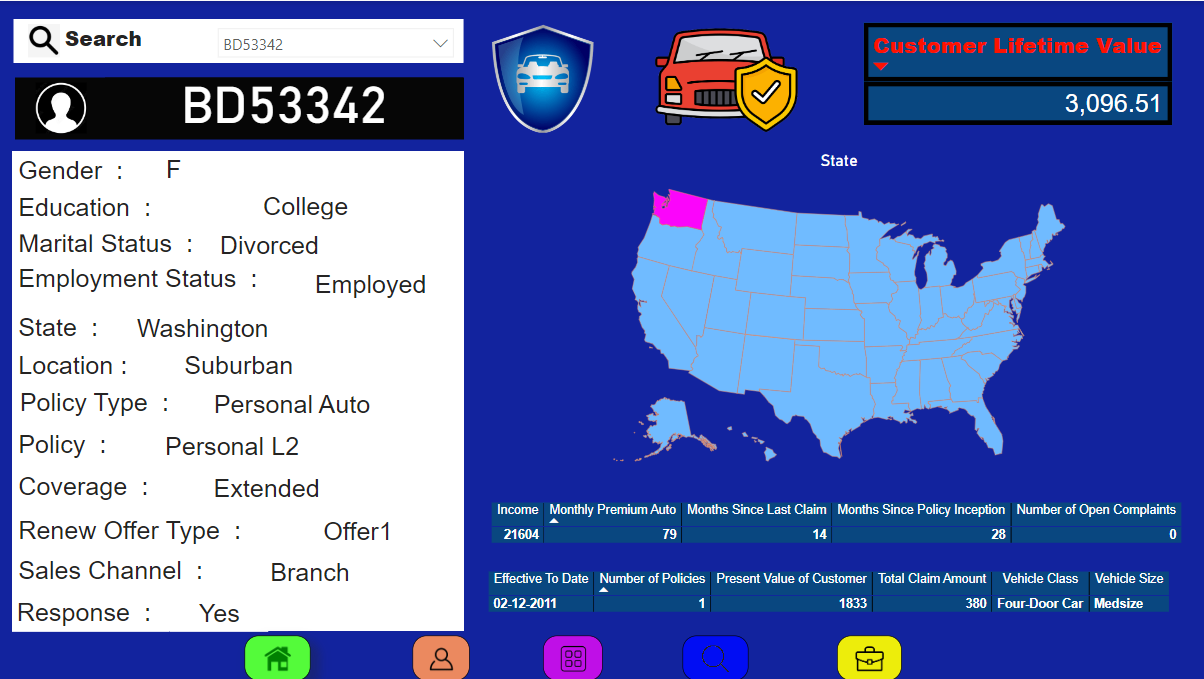

The page's visual inventory and layout, read from the dashboard file:
{"tool":"powerbi","page":{"name":"Customer Details","canvas":[1280,720],"ordinal":3},"visuals":[{"type":"group","id":"g1","title":"Group 10","box":[12.7,17.5,1251.8,650.6],"z":0},{"type":"tableEx","fields":{"Values":["Final Customet Lifetime Value.Customer Lifetime Value"]},"box":[910,17.5,352.9,127],"z":0,"group":"g4"},{"type":"textbox","box":[63.9,19.1,157.5,45.5],"z":0,"group":"g8"},{"type":"image","box":[15.9,81.8,97.9,64.2],"z":0,"group":"g7"},{"type":"group","id":"g2","title":"Group 5","box":[14.3,158.6,476.9,468.7],"z":0,"group":"g10"},{"type":"shapeMap","fields":{"Category":["Final Customet Lifetime Value.State"]},"box":[515.8,158.6,748.8,349.6],"z":0,"group":"g5"},{"type":"card","fields":{"Values":["Min(Final Customet Lifetime Value.Marital Status)"]},"box":[222.7,235.8,125.3,43.8],"z":0,"group":"g2"},{"type":"image","box":[14.3,19.1,64.7,45.5],"z":1000,"group":"g8"},{"type":"image","box":[512.6,19.1,127.2,125.4],"z":1000,"group":"g4"},{"type":"card","fields":{"Values":["Min(Final Customet Lifetime Value.Customer)"]},"box":[111.8,81.8,379.5,64.2],"z":1000,"group":"g7"},{"type":"textbox","box":[14.3,235.8,211.6,45.4],"z":1000,"group":"g2"},{"type":"tableEx","fields":{"Values":["Final Customet Lifetime Value.Income","Final Customet Lifetime Value.Monthly Premium Auto","Final Customet Lifetime Value.Months Since Last Claim","Final Customet Lifetime Value.Months Since Policy Inception","Final Customet Lifetime Value.Number of Open Complaints"]},"box":[515.8,526.9,748.8,67.4],"z":1000,"group":"g5"},{"type":"textbox","box":[12.7,627.3,166.9,40.8],"z":1000,"group":"g10"},{"type":"image","box":[887.6,672.8,68.4,47.7],"z":1000,"group":"g6"},{"type":"slicer","fields":{"Values":["Final Customet Lifetime Value.Customer"]},"box":[221.5,19.1,269.8,45.5],"z":2000,"group":"g8"},{"type":"image","box":[684.3,20.6,174.9,125.4],"z":2000,"group":"g4"},{"type":"textbox","box":[14.3,273.4,280,51.7],"z":2000,"group":"g2"},{"type":"tableEx","fields":{"Values":["Final Customet Lifetime Value.Effective To Date","Final Customet Lifetime Value.Number of Policies","Final Customet Lifetime Value.Present Value of Customer","Final Customet Lifetime Value.Total Claim Amount","Final Customet Lifetime Value.Vehicle Class","Final Customet Lifetime Value.Vehicle Size"]},"box":[512.2,599.1,749.2,69],"z":2000,"group":"g5"},{"type":"card","fields":{"Values":["Min(Final Customet Lifetime Value.Response)"]},"box":[179.6,627.3,104.9,40.8],"z":2000,"group":"g10"},{"type":"image","box":[723.8,672.8,70,47.7],"z":2000,"group":"g6"},{"type":"group","id":"g3","title":"Group 7","box":[12.7,19.1,478.5,648.9],"z":3000,"group":"g1"},{"type":"card","fields":{"Values":["Min(Final Customet Lifetime Value.EmploymentStatus)"]},"box":[294.3,279.6,197,40.7],"z":3000,"group":"g2"},{"type":"image","box":[437.4,672.8,60.4,47.7],"z":3000,"group":"g6"},{"type":"textbox","box":[14.3,325,105.8,43.8],"z":4000,"group":"g2"},{"type":"image","box":[575.8,672.8,63.6,47.7],"z":4000,"group":"g6"},{"type":"group","id":"g4","title":"Group 8","box":[512.6,17.5,750.4,128.5],"z":4004,"group":"g5"},{"type":"group","id":"g5","title":"Group 9","box":[512.2,17.5,752.4,650.6],"z":4005,"group":"g1"},{"type":"card","fields":{"Values":["Min(Final Customet Lifetime Value.State)"]},"box":[116.8,325,197,40.7],"z":5000,"group":"g2"},{"type":"image","box":[259.3,672.8,70,47.7],"z":5000,"group":"g6"},{"type":"group","id":"g6","title":"Group 11","box":[259.3,672.8,696.7,47.7],"z":5001},{"type":"group","id":"g7","title":"Group 2","box":[15.9,81.8,475.3,64.2],"z":6000,"group":"g3"},{"type":"card","fields":{"Values":["Min(Final Customet Lifetime Value.Location Code)"]},"box":[154.3,365.7,197,40.7],"z":6000,"group":"g2"},{"type":"textbox","box":[14.3,365.7,140,40.7],"z":7000,"group":"g2"},{"type":"card","fields":{"Values":["Min(Final Customet Lifetime Value.Gender)"]},"box":[147.8,161.7,71.6,32],"z":8000,"group":"g9"},{"type":"card","fields":{"Values":["Min(Final Customet Lifetime Value.Policy)"]},"box":[142.9,450.3,205.1,43.8],"z":8000,"group":"g2"},{"type":"card","fields":{"Values":["Min(Final Customet Lifetime Value.Education)"]},"box":[180.3,198.2,288.1,37.6],"z":9000,"group":"g11"},{"type":"card","fields":{"Values":["Min(Final Customet Lifetime Value.Policy Type)"]},"box":[206.4,404.9,205.1,43.8],"z":9000,"group":"g2"},{"type":"textbox","box":[15.9,404.9,190.4,43.8],"z":10000,"group":"g2"},{"type":"textbox","box":[14.3,158.6,135.1,39.7],"z":11000,"group":"g9"},{"type":"textbox","box":[14.3,450.3,131.8,43.8],"z":11000,"group":"g2"},{"type":"textbox","box":[14.3,198.2,169.3,48.5],"z":12000,"group":"g11"},{"type":"textbox","box":[14.3,494.2,166,43.8],"z":12000,"group":"g2"},{"type":"card","fields":{"Values":["Min(Final Customet Lifetime Value.Coverage)"]},"box":[180.3,494.2,205.1,43.8],"z":13000,"group":"g2"},{"type":"textbox","box":[14.3,539.6,265.3,43.8],"z":14000,"group":"g2"},{"type":"card","fields":{"Values":["Min(Final Customet Lifetime Value.Renew Offer Type)"]},"box":[276.4,538,205.1,45.4],"z":15000,"group":"g2"},{"type":"group","id":"g8","title":"Group 1","box":[14.3,19.1,476.9,45.5],"z":15017,"group":"g3"},{"type":"group","id":"g9","title":"Group 3","box":[14.3,158.6,205.1,39.7],"z":15018,"group":"g11"},{"type":"group","id":"g10","title":"Group 6","box":[12.7,158.6,478.5,509.4],"z":15023,"group":"g3"},{"type":"textbox","box":[14.3,583.4,231.1,43.8],"z":16000,"group":"g2"},{"type":"card","fields":{"Values":["Min(Final Customet Lifetime Value.Sales Channel)"]},"box":[225.9,583.4,205.1,43.8],"z":17000,"group":"g2"},{"type":"group","id":"g11","title":"Group 4","box":[14.3,158.6,454.1,88.1],"z":18000,"group":"g2"}]}

Visuals, with their boxes in screenshot pixels (x1, y1, x2, y2), scaled from the page's 1280x720 canvas onto the 1204x679 screenshot:
"Group 10" group: rect(12, 17, 1189, 630)
tableEx - Final Customet Lifetime Value.Customer Lifetime Value: rect(856, 17, 1188, 136)
textbox: rect(60, 18, 208, 61)
image: rect(15, 77, 107, 138)
"Group 5" group: rect(13, 150, 462, 592)
shapeMap - Final Customet Lifetime Value.State: rect(485, 150, 1190, 479)
card - Min(Final Customet Lifetime Value.Marital Status): rect(209, 222, 327, 264)
image: rect(13, 18, 74, 61)
image: rect(482, 18, 602, 136)
card - Min(Final Customet Lifetime Value.Customer): rect(105, 77, 462, 138)
textbox: rect(13, 222, 212, 265)
tableEx - Final Customet Lifetime Value.Income x Final Customet Lifetime Value.Monthly Premium Auto: rect(485, 497, 1190, 560)
textbox: rect(12, 592, 169, 630)
image: rect(835, 634, 899, 678)
slicer - Final Customet Lifetime Value.Customer: rect(208, 18, 462, 61)
image: rect(644, 19, 808, 138)
textbox: rect(13, 258, 277, 307)
tableEx - Final Customet Lifetime Value.Effective To Date x Final Customet Lifetime Value.Number of Policies: rect(482, 565, 1187, 630)
card - Min(Final Customet Lifetime Value.Response): rect(169, 592, 268, 630)
image: rect(681, 634, 747, 678)
"Group 7" group: rect(12, 18, 462, 630)
card - Min(Final Customet Lifetime Value.EmploymentStatus): rect(277, 264, 462, 302)
image: rect(411, 634, 468, 678)
textbox: rect(13, 306, 113, 348)
image: rect(542, 634, 601, 678)
"Group 8" group: rect(482, 17, 1188, 138)
"Group 9" group: rect(482, 17, 1190, 630)
card - Min(Final Customet Lifetime Value.State): rect(110, 306, 295, 345)
image: rect(244, 634, 310, 678)
"Group 11" group: rect(244, 634, 899, 678)
"Group 2" group: rect(15, 77, 462, 138)
card - Min(Final Customet Lifetime Value.Location Code): rect(145, 345, 330, 383)
textbox: rect(13, 345, 145, 383)
card - Min(Final Customet Lifetime Value.Gender): rect(139, 152, 206, 183)
card - Min(Final Customet Lifetime Value.Policy): rect(134, 425, 327, 466)
card - Min(Final Customet Lifetime Value.Education): rect(170, 187, 441, 222)
card - Min(Final Customet Lifetime Value.Policy Type): rect(194, 382, 387, 423)
textbox: rect(15, 382, 194, 423)
textbox: rect(13, 150, 141, 187)
textbox: rect(13, 425, 137, 466)
textbox: rect(13, 187, 173, 233)
textbox: rect(13, 466, 170, 507)
card - Min(Final Customet Lifetime Value.Coverage): rect(170, 466, 363, 507)
textbox: rect(13, 509, 263, 550)
card - Min(Final Customet Lifetime Value.Renew Offer Type): rect(260, 507, 453, 550)
"Group 1" group: rect(13, 18, 462, 61)
"Group 3" group: rect(13, 150, 206, 187)
"Group 6" group: rect(12, 150, 462, 630)
textbox: rect(13, 550, 231, 591)
card - Min(Final Customet Lifetime Value.Sales Channel): rect(212, 550, 405, 591)
"Group 4" group: rect(13, 150, 441, 233)
